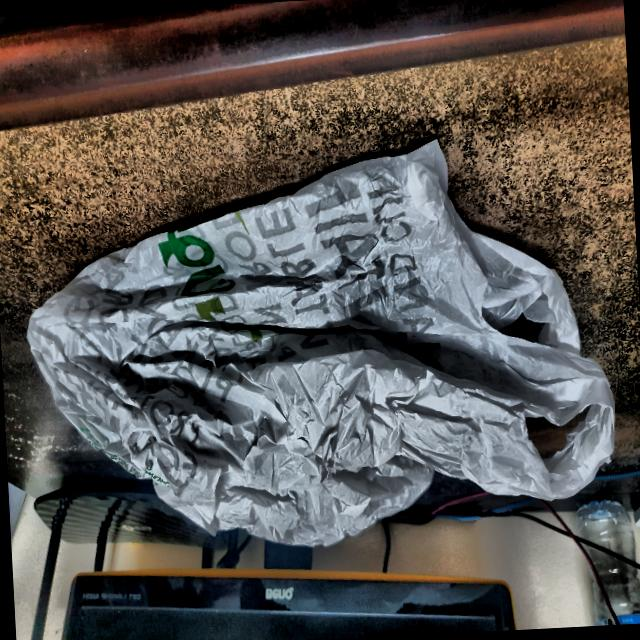plastic bag: (12, 118, 631, 570)
